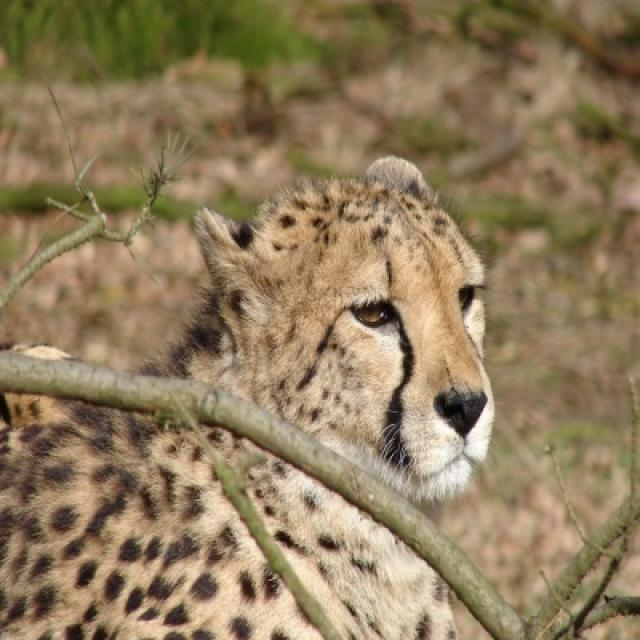Cheetah: (136, 157, 498, 547), (0, 402, 491, 638)
